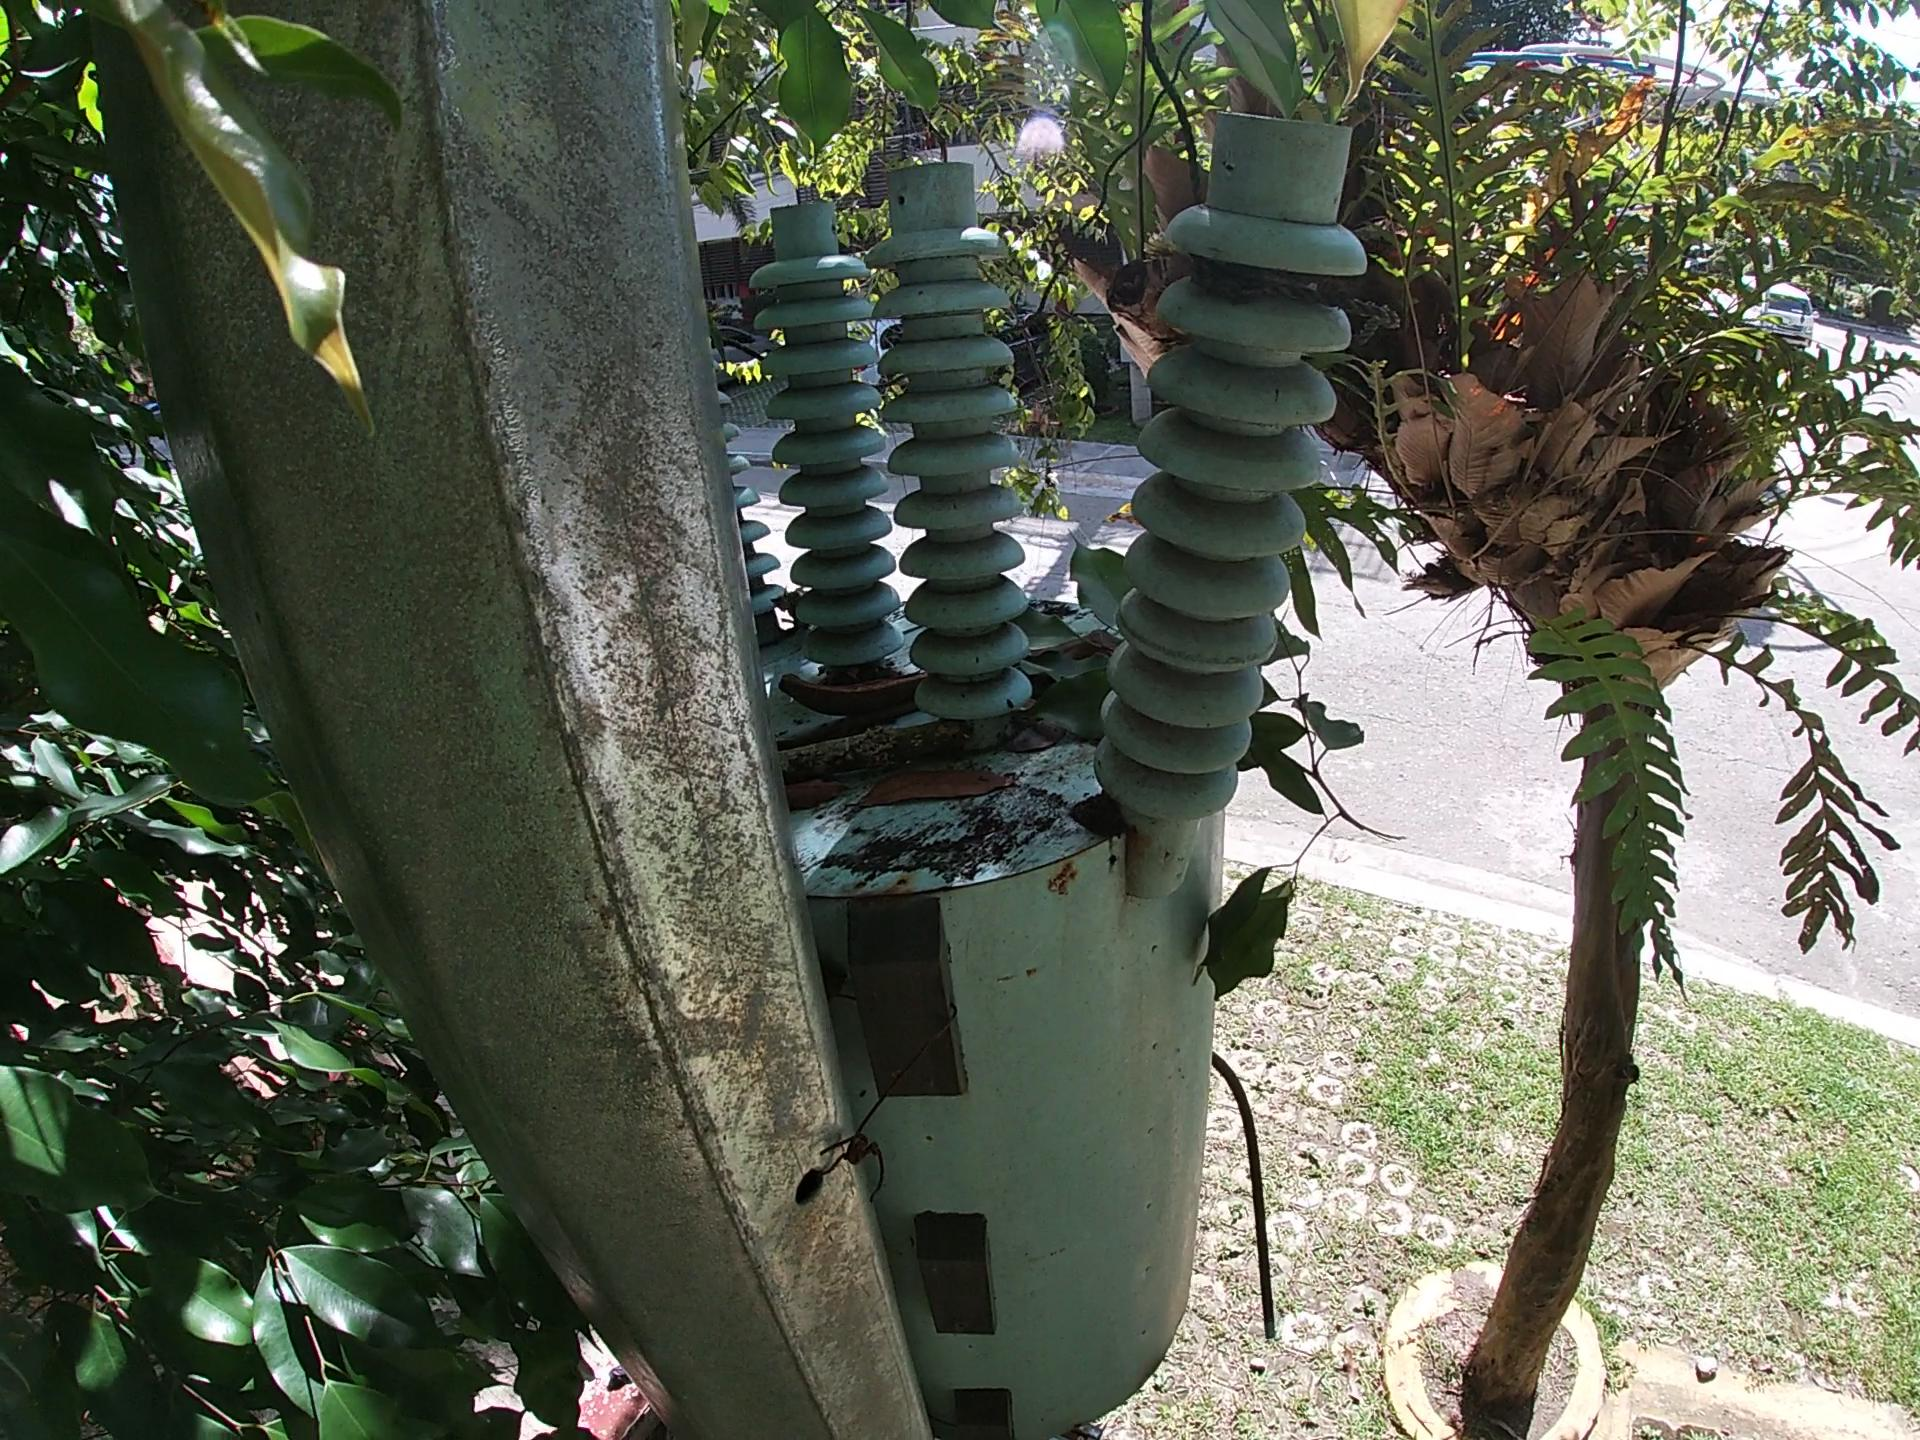branch with leaves: (1203, 585, 1385, 1016)
leaf: (1020, 526, 1126, 729), (844, 761, 1011, 808), (785, 764, 848, 817)
mahogany fruit: (779, 663, 919, 715)
tree branch: (763, 728, 974, 759)
